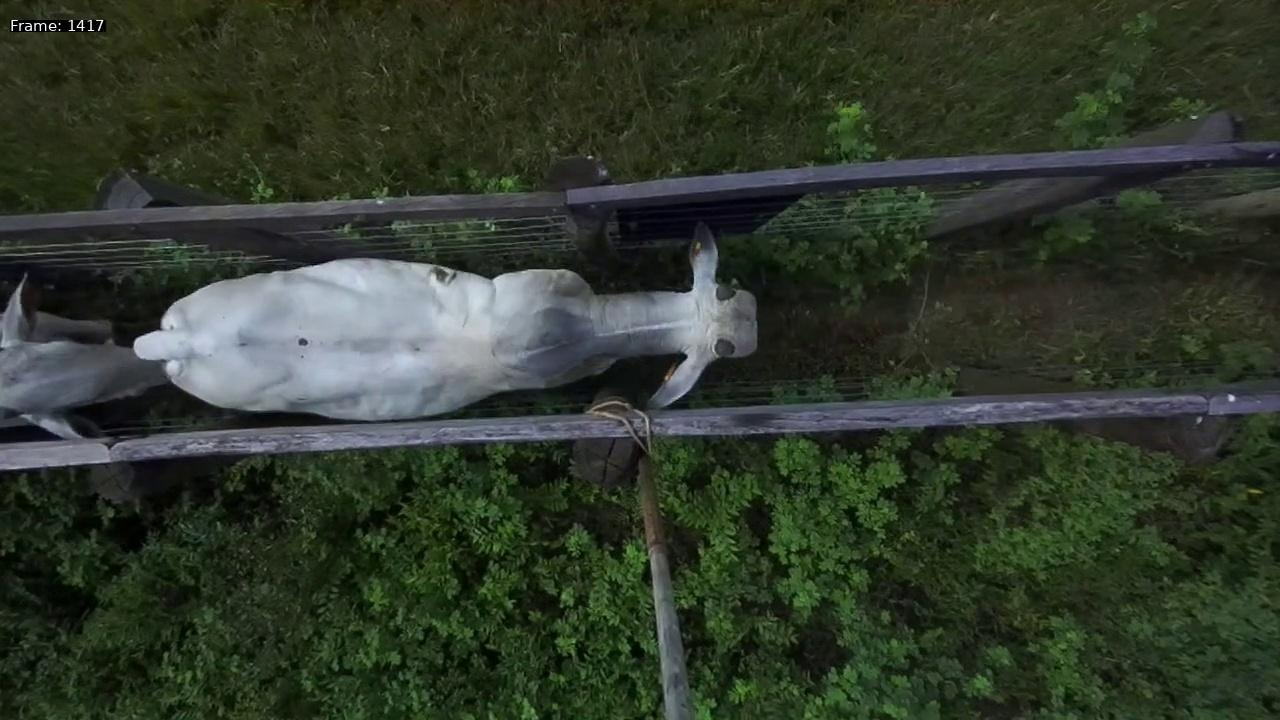cattle: (124, 200, 755, 430)
